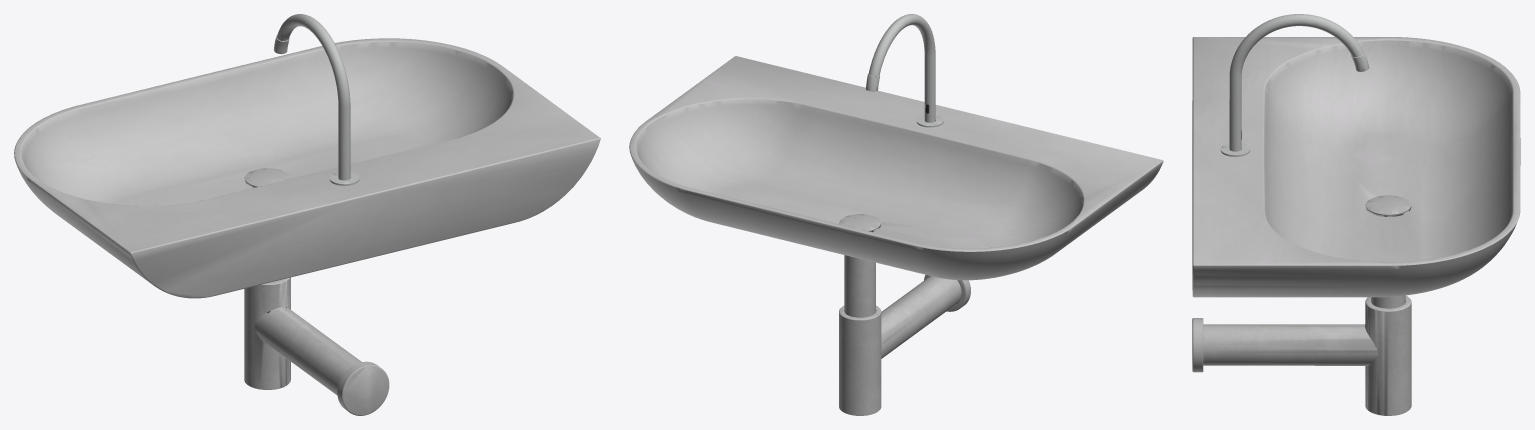
The model's file is washbasin_a01.glb.
The picture shows the model from 3 angles, left to right: view 1: azimuth 30°, elevation 25°; view 2: azimuth 150°, elevation 25°; view 3: azimuth 270°, elevation 25°; orthographic projection. The views are drawn at different scales.
Parts seen in each view (by area): view 1: washbasin_a01_lod1; view 2: washbasin_a01_lod1; view 3: washbasin_a01_lod1.
Boxes of the visible parts, bbox=[...] form: washbasin_a01_lod1: bbox=[14, 14, 600, 415]; washbasin_a01_lod1: bbox=[629, 14, 1163, 415]; washbasin_a01_lod1: bbox=[1192, 14, 1520, 415].
Size of the model in its own units: 0.5761 by 0.4609 by 0.3496.
1 material, 1 textured.
